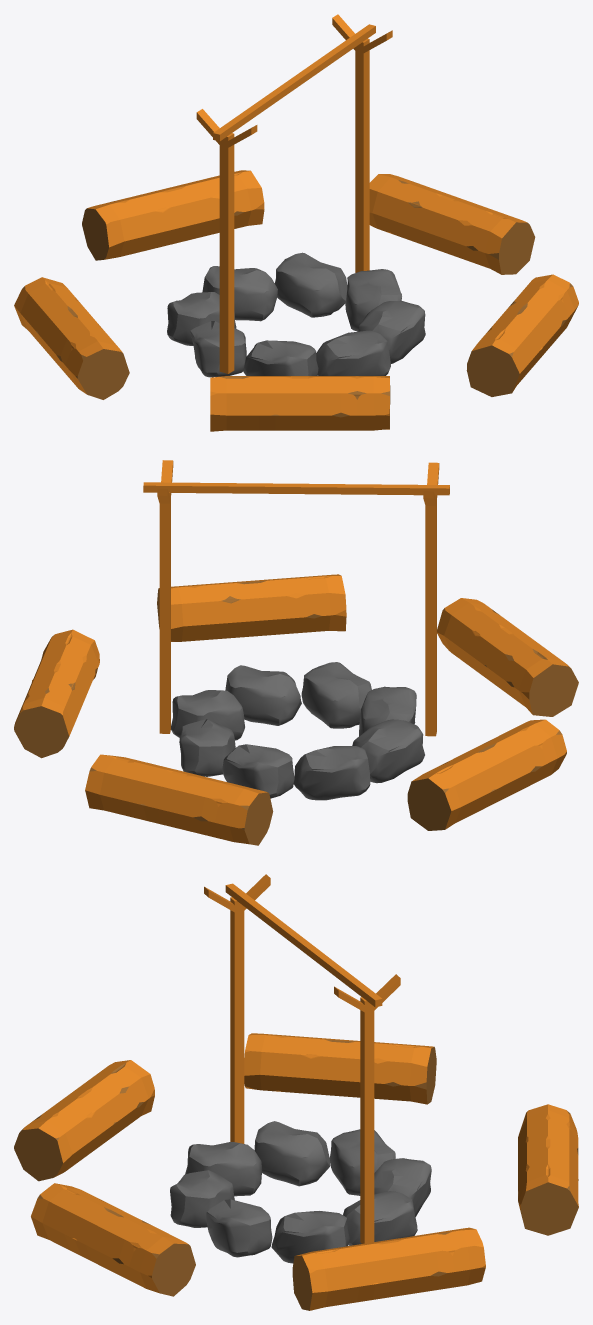
Rendered from fireplace.fbx.
3 views of the same model, one above another, from view 1: azimuth 30°, elevation 25°; view 2: azimuth 150°, elevation 25°; view 3: azimuth 270°, elevation 25° (orthographic). The views are drawn at different scales.
Parts seen in each view (by area): view 1: woodseat, firerock, stick_wood_001, stick_wood_001.001, pothandle-002; view 2: woodseat, firerock, pothandle-002, stick_wood_001, stick_wood_001.001; view 3: woodseat, firerock, stick_wood_001.001, stick_wood_001, pothandle-002.
Part boxes in pixels (x1,y1,x2,y2): woodseat: [14, 170, 578, 431]; firerock: [167, 252, 425, 377]; stick_wood_001: [196, 109, 257, 373]; stick_wood_001.001: [332, 14, 392, 272]; pothandle-002: [213, 24, 375, 141]; woodseat: [14, 574, 578, 845]; firerock: [171, 662, 424, 800]; pothandle-002: [143, 482, 449, 495]; stick_wood_001: [423, 462, 439, 736]; stick_wood_001.001: [157, 460, 173, 733]; woodseat: [14, 1033, 578, 1310]; firerock: [170, 1121, 431, 1263]; stick_wood_001.001: [334, 974, 400, 1243]; stick_wood_001: [204, 874, 270, 1143]; pothandle-002: [225, 883, 382, 1007].
Bounding box in the file's own units: 811 × 440 × 790.
